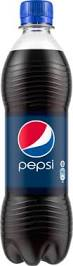bottle: (2, 1, 73, 261)
pepsi: (4, 115, 68, 184)
plastic: (1, 1, 72, 266)
